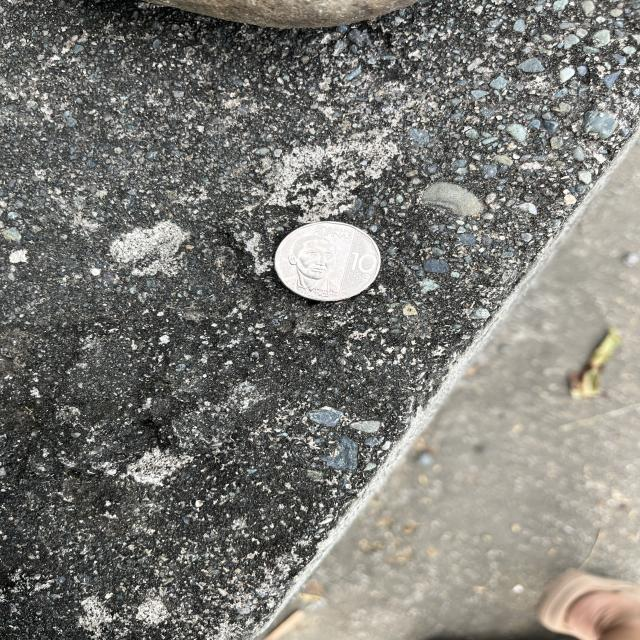10_New_Front: (338, 245, 384, 287)
